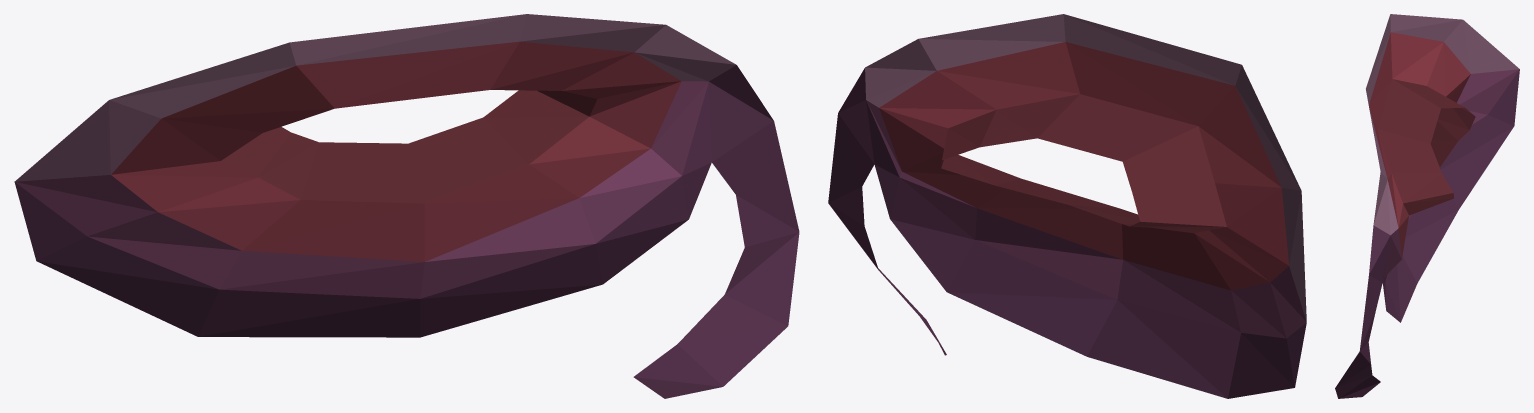
File: miscPunchedEye.glb
The picture shows the model from 3 angles, left to right: view 1: azimuth 30°, elevation 25°; view 2: azimuth 150°, elevation 25°; view 3: azimuth 270°, elevation 25°; orthographic projection. The views are drawn at different scales.
Visible parts, largest first — view 1: miscPunchedEye; view 2: miscPunchedEye; view 3: miscPunchedEye.
Boxes of the visible parts, x1=… form: miscPunchedEye: x1=14, y1=14, x2=799, y2=398; miscPunchedEye: x1=828, y1=14, x2=1306, y2=398; miscPunchedEye: x1=1335, y1=14, x2=1519, y2=398.
Bounding box in the file's own units: 0.0672 × 0.0416 × 0.0255.
